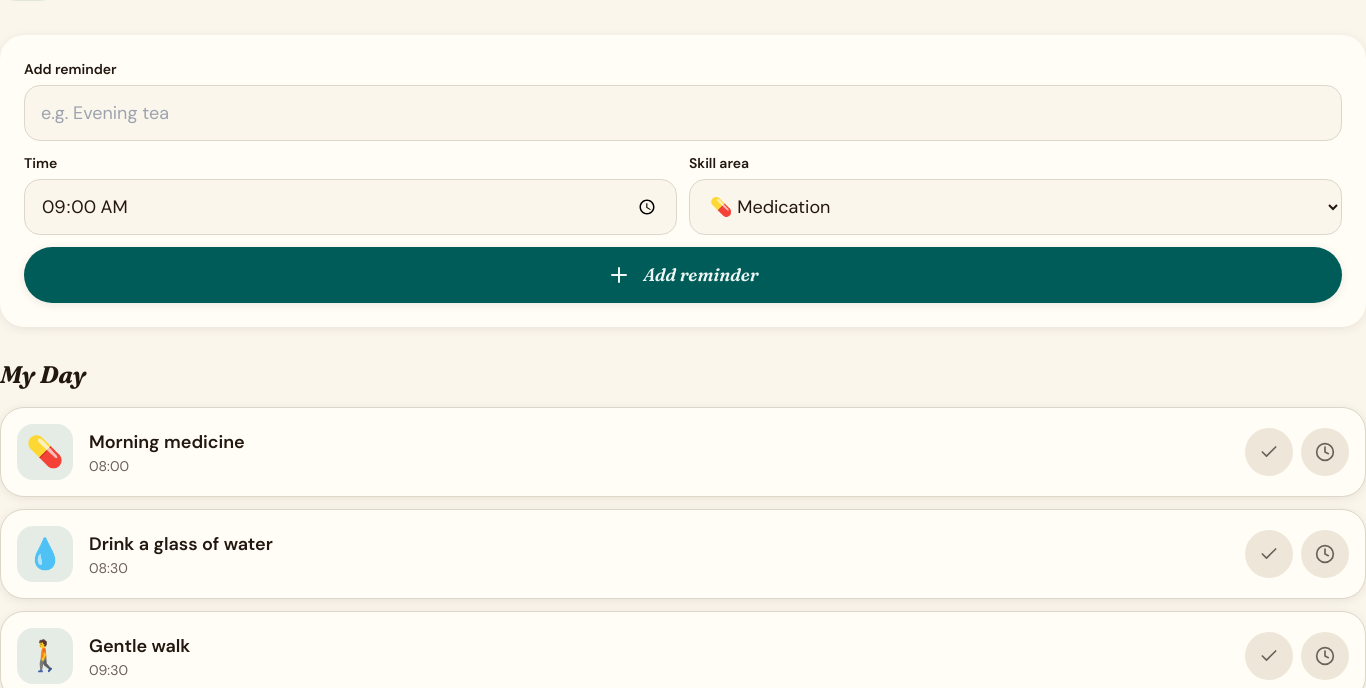
Test: MyDayPage › adds a reminder and shows it in the reminders list
In the field with test id "myday.title_input": (683, 113) left=24, top=85, right=1342, bottom=141, type "Evening tea"
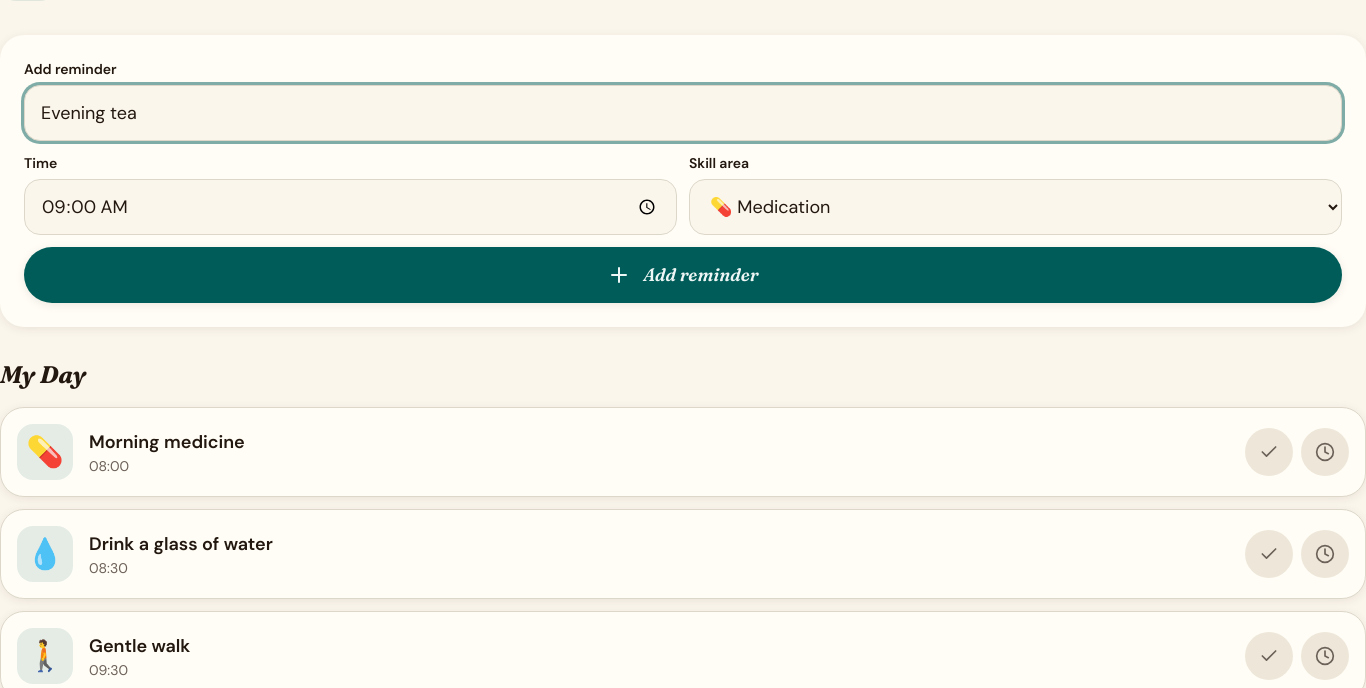
Click the button with test id "myday.add_button": click(683, 275) left=24, top=247, right=1342, bottom=303
(page scrolled)
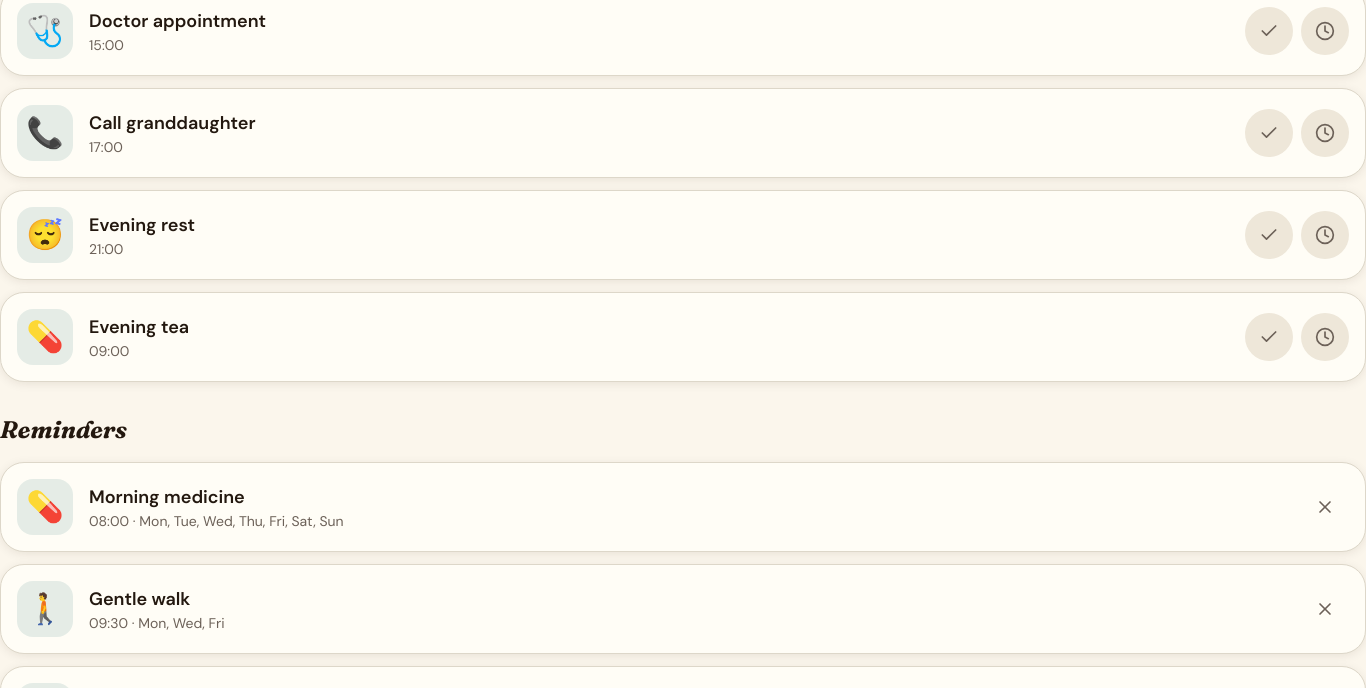
Expected: the text "Evening tea" is shown, left=89, top=315, right=189, bottom=339
